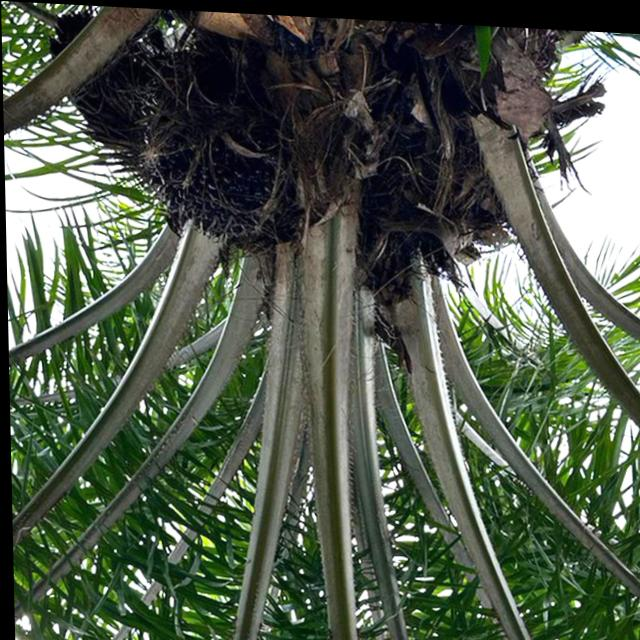almost: (144, 97, 305, 253)
